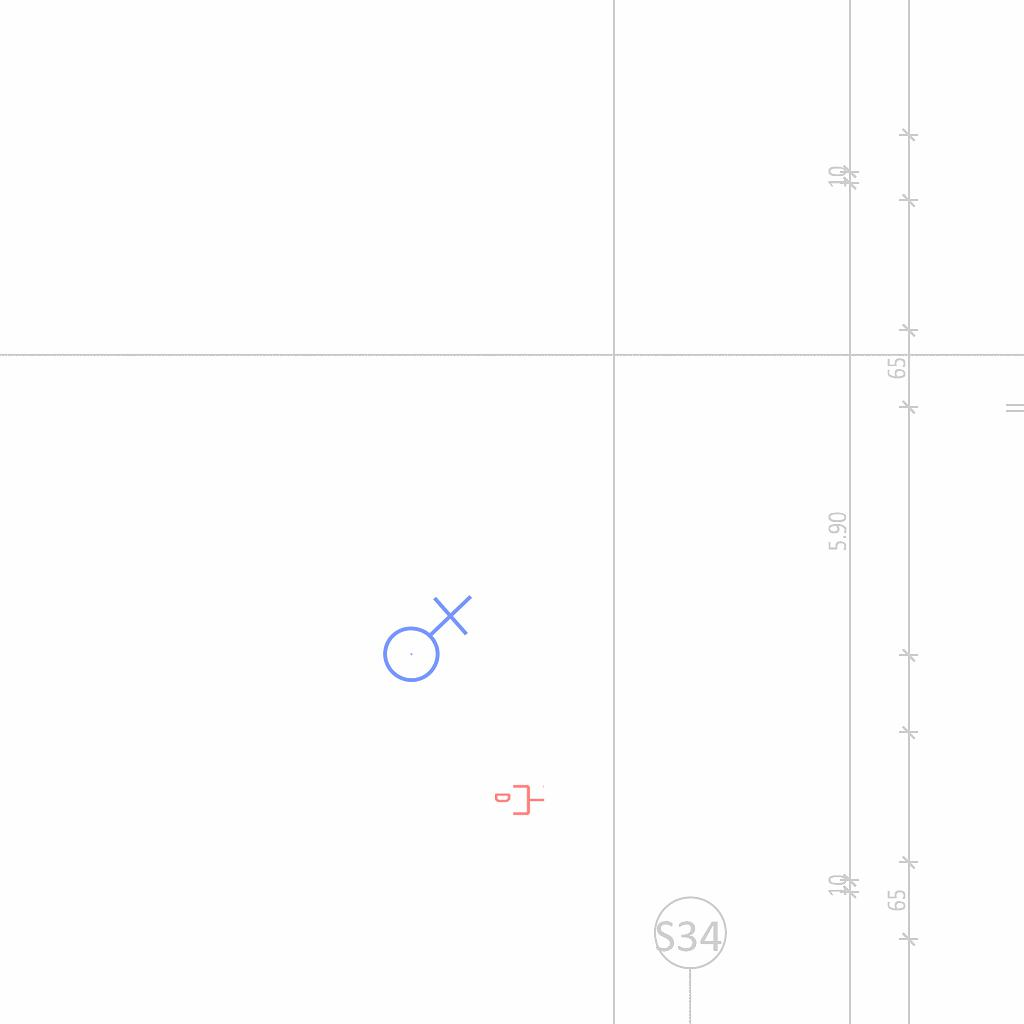Datenanschluss_einfach: (495, 783, 545, 817)
Elektroanschluss_allgemein_230V_Geraeteanschlussdose_230V: (374, 590, 473, 684)
